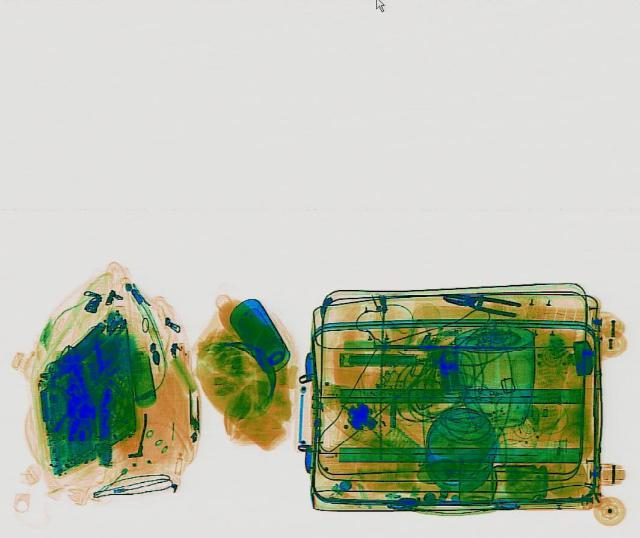Pliers: (440, 288, 522, 317)
